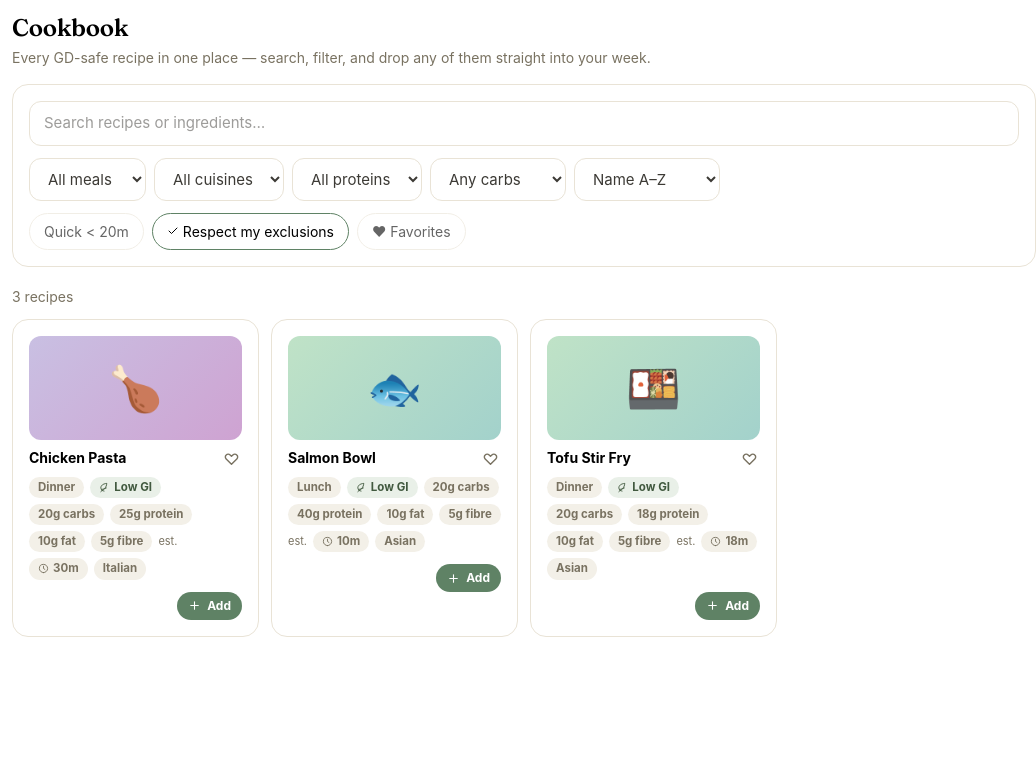
Test case: CookbookTab › filters by a maximum carb budget
This screenshot has width=1036, height=780.
Select "≤ 15g carbs" in the dropdown named "Filter by carbs": point(498, 179) x1=430 y1=158 x2=566 y2=200
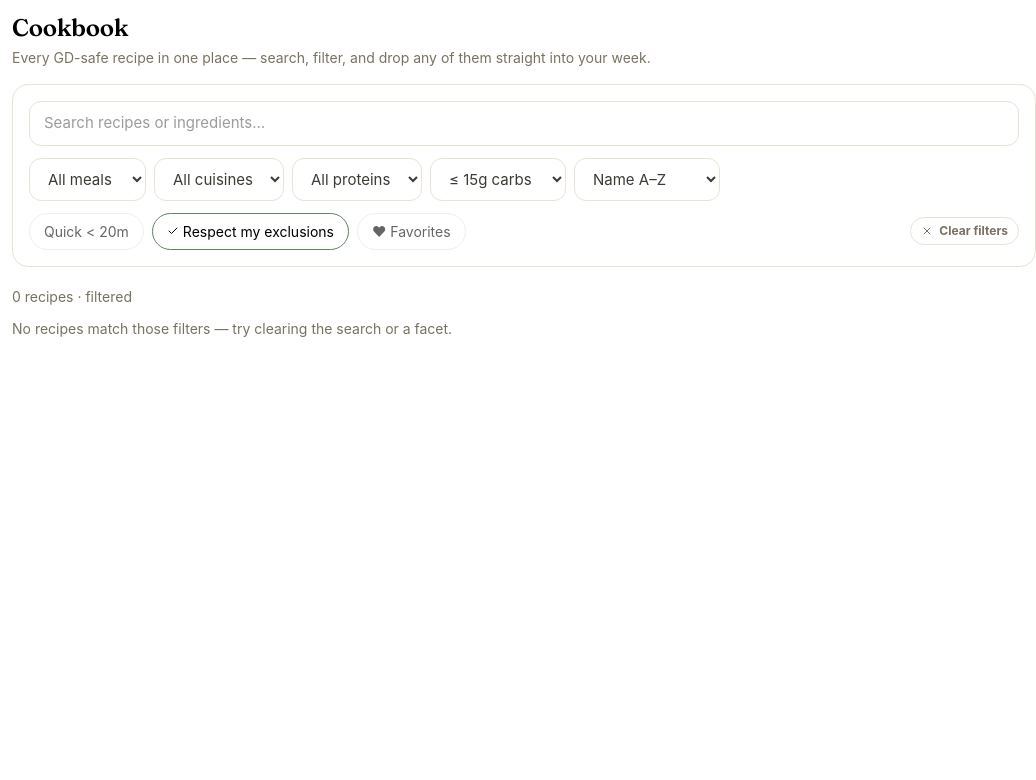
Expected: the text "0 recipes · filtered" is shown, x1=12 y1=288 x2=132 y2=304
Select "≤ 25g carbs" in the dropdown named "Filter by carbs": point(498, 179) x1=430 y1=158 x2=566 y2=200
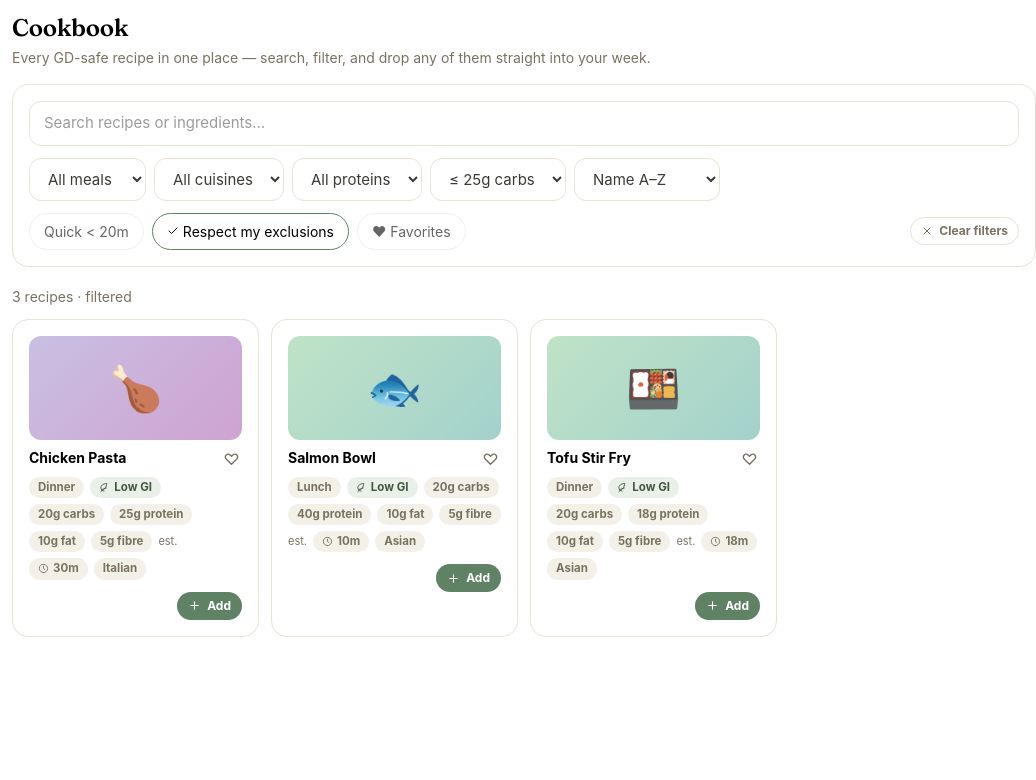
Expected: the text "3 recipes · filtered" is shown, x1=12 y1=288 x2=132 y2=304
